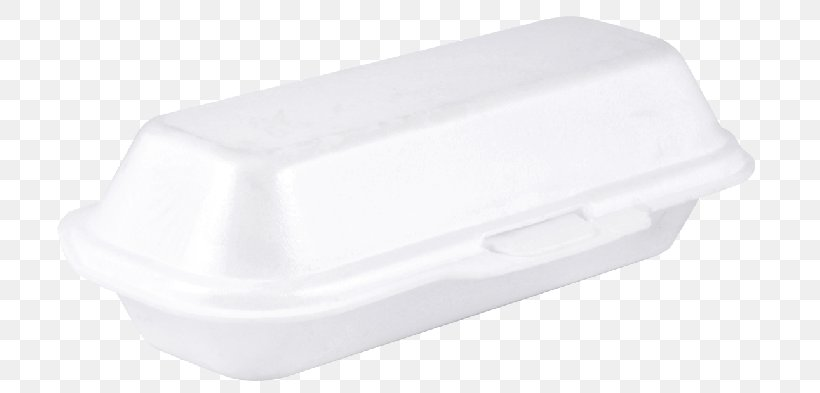Foam Box: (56, 8, 765, 386)
